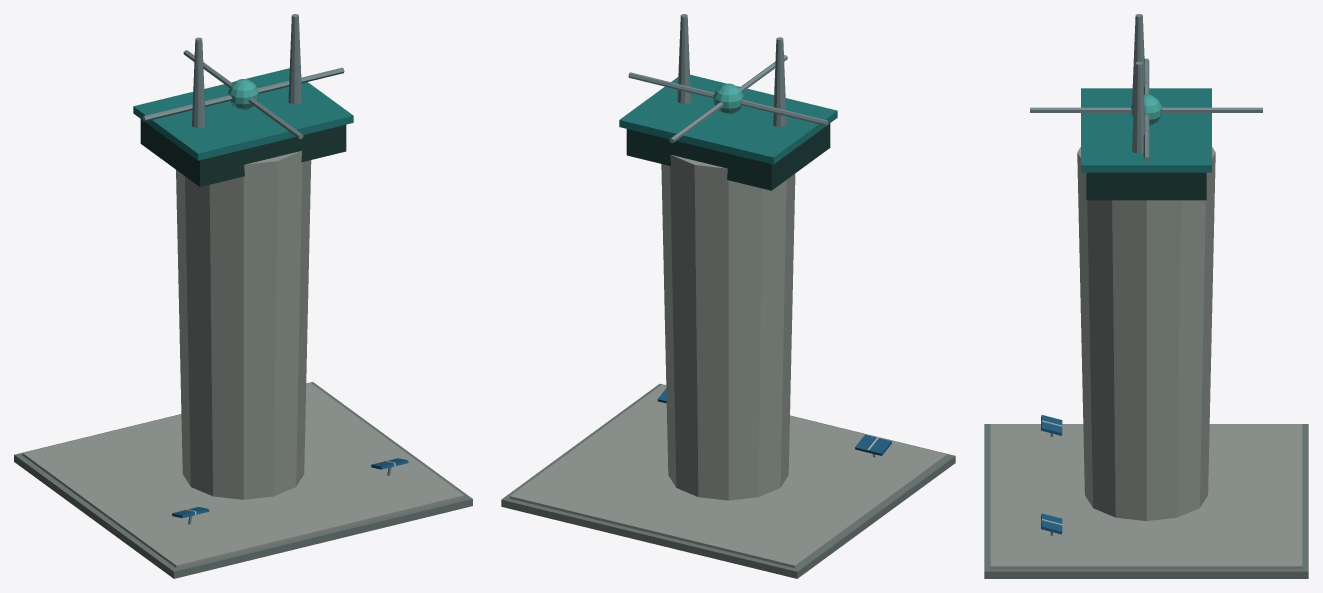
The model's file is defense_tower_lv3.glb.
The picture shows the model from 3 angles, left to right: view 1: azimuth 30°, elevation 25°; view 2: azimuth 150°, elevation 25°; view 3: azimuth 270°, elevation 25°; orthographic projection. The views are drawn at different scales.
Parts seen in each view (by area): view 1: rough, metallic; view 2: rough, metallic; view 3: rough, metallic.
Boxes of the visible parts, <box> form: rough: <box>14,68,472,578</box>; metallic: <box>142,14,408,524</box>; rough: <box>501,74,955,578</box>; metallic: <box>628,14,891,457</box>; rough: <box>984,88,1308,578</box>; metallic: <box>1030,14,1262,535</box>.
Size of the model in its own units: 9.6 by 14.1 by 8.9.
